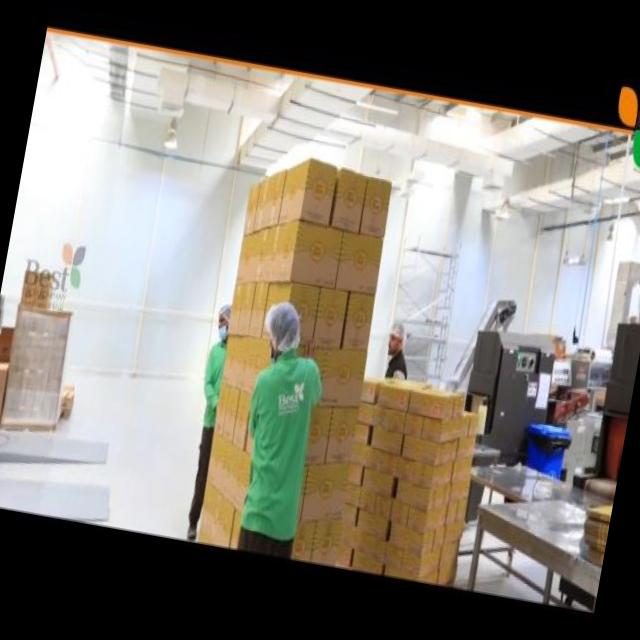hairnet: (260, 304, 304, 358), (387, 324, 407, 344), (217, 302, 233, 322)
